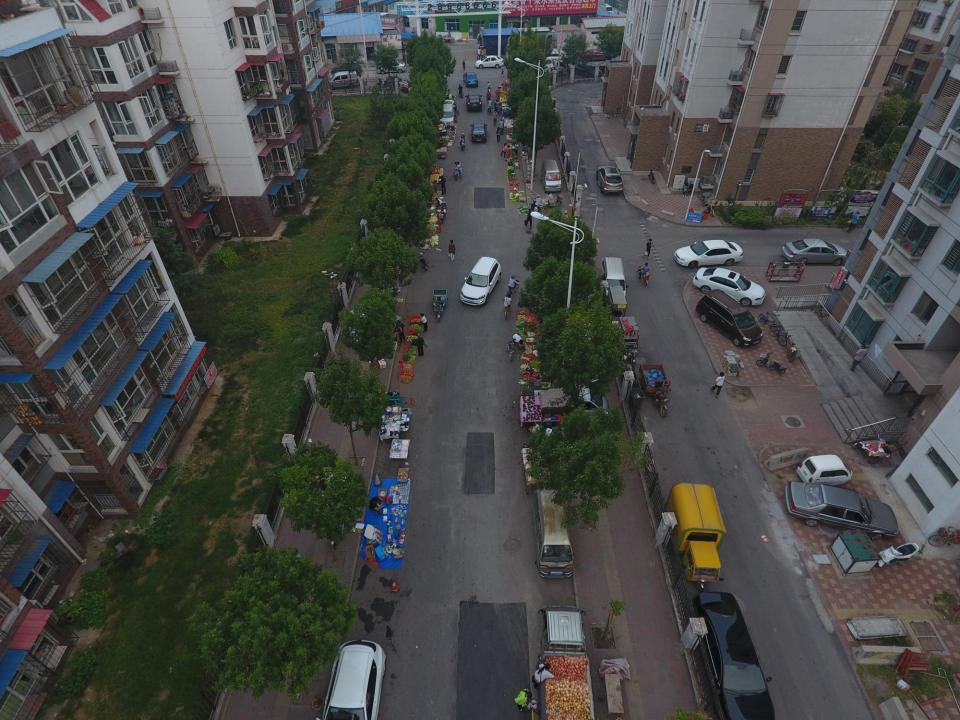car: (691, 592, 775, 720), (786, 479, 900, 544), (320, 640, 387, 720), (691, 268, 766, 306), (672, 239, 744, 270), (459, 255, 502, 306), (782, 238, 850, 267), (796, 454, 852, 488), (595, 164, 624, 194), (570, 61, 603, 77), (469, 121, 488, 143), (377, 60, 406, 74), (533, 51, 563, 64), (578, 48, 610, 60), (475, 56, 504, 68), (466, 93, 484, 111), (462, 72, 480, 88)
truck: (539, 605, 594, 720), (519, 386, 609, 428), (530, 59, 567, 77), (439, 98, 454, 127)
van: (532, 488, 574, 578), (696, 290, 763, 346), (603, 256, 628, 302), (323, 71, 360, 91), (541, 160, 562, 193)
